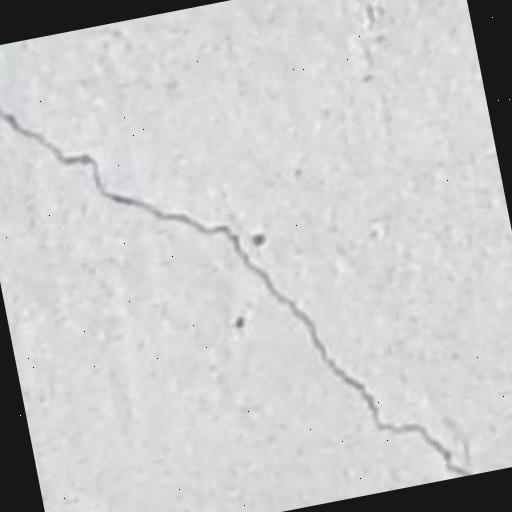spalling: (0, 82, 494, 477)
